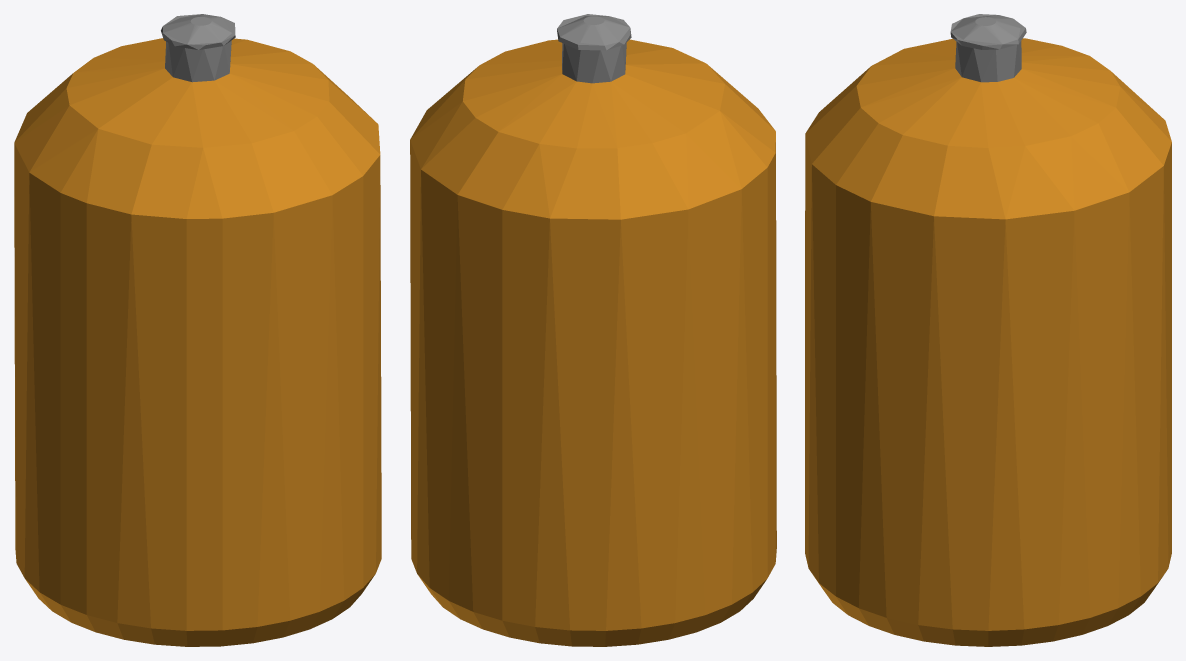
Rendered from Bombona.fbx.
3 views of the same model, side by side, from view 1: azimuth 30°, elevation 25°; view 2: azimuth 150°, elevation 25°; view 3: azimuth 270°, elevation 25° (orthographic).
Parts seen in each view (by area): view 1: Bombona; view 2: Bombona; view 3: Bombona.
Part boxes in pixels (box(x1,y1,x2,y2)): Bombona: box(14, 14, 381, 646); Bombona: box(410, 14, 776, 646); Bombona: box(805, 14, 1171, 646).
Bounding box in the file's own units: 2 × 3.34 × 2.
